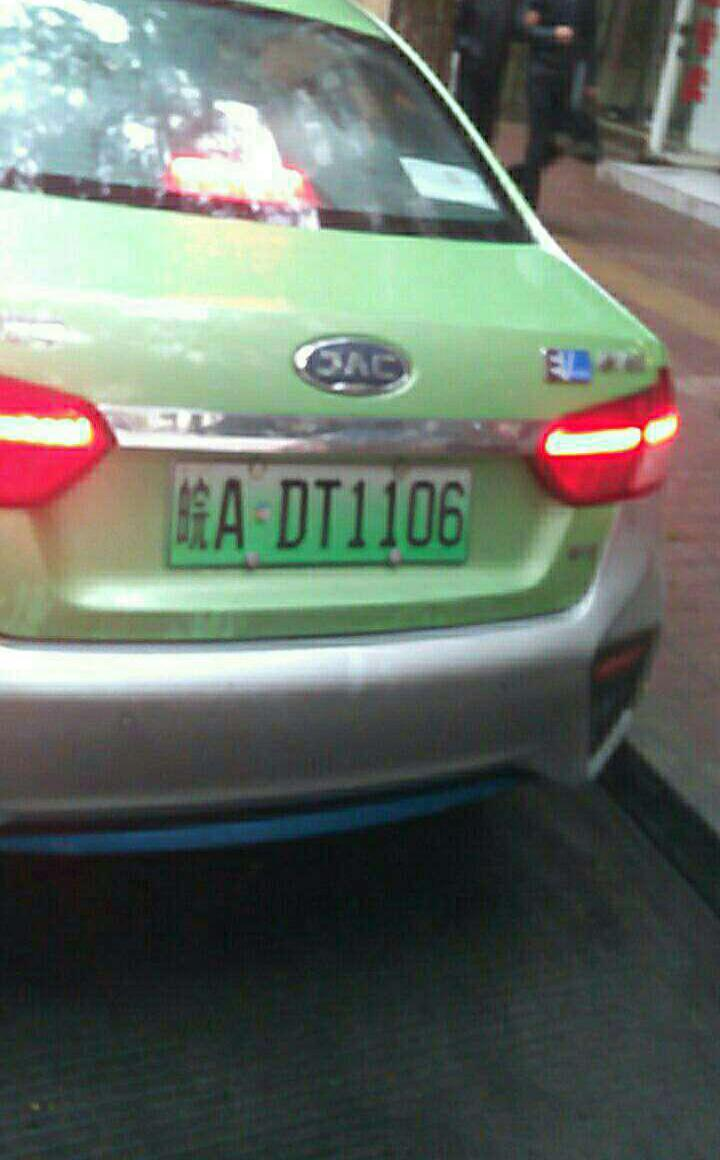car: (167, 464, 474, 566)
